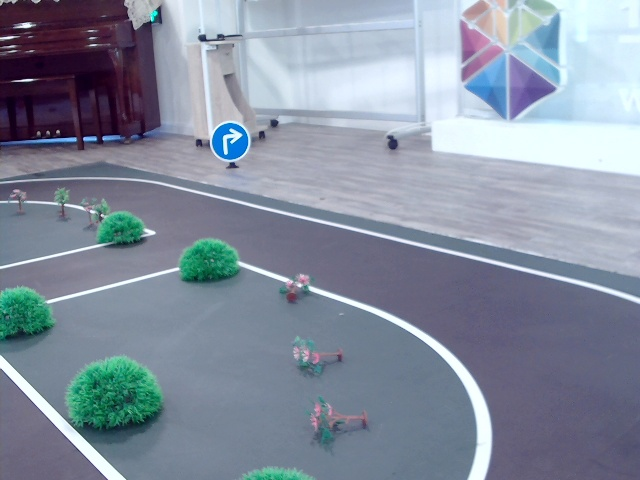turn_right: (219, 127, 241, 152)
